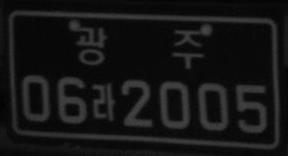0: (196, 81, 229, 132), (158, 80, 191, 130), (22, 73, 50, 123)
2: (120, 78, 153, 128)
5: (234, 82, 268, 135)
6: (56, 76, 87, 124)
광주_D: (73, 25, 205, 68)
라: (91, 81, 117, 122)
